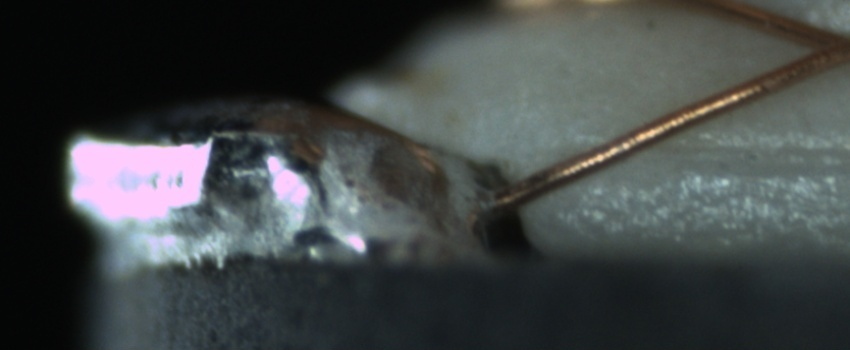CL: (780, 15, 847, 76)
DL: (574, 117, 844, 184)
